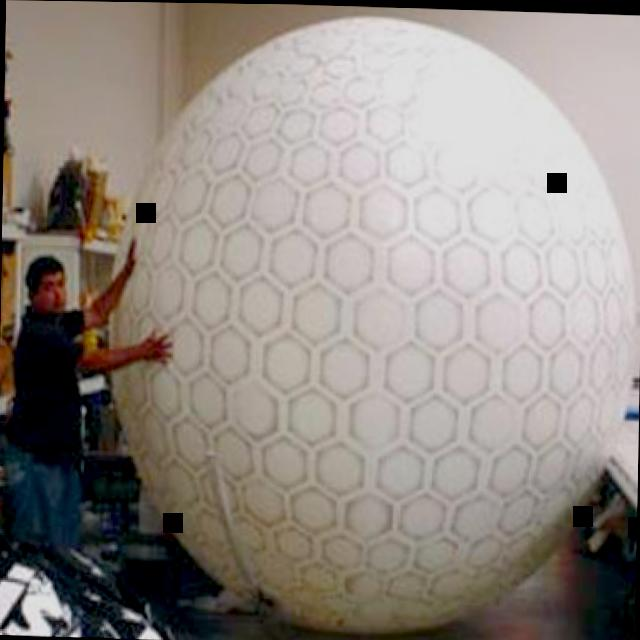golf ball: (79, 1, 640, 640)
